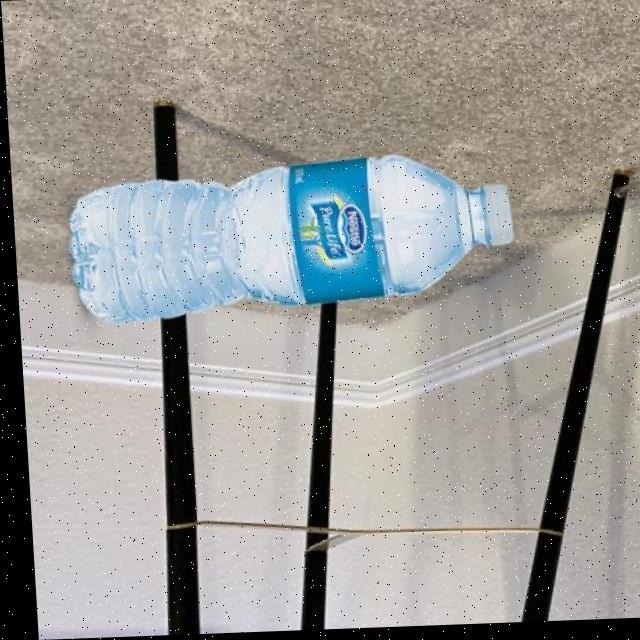bottle: (60, 153, 515, 327)
